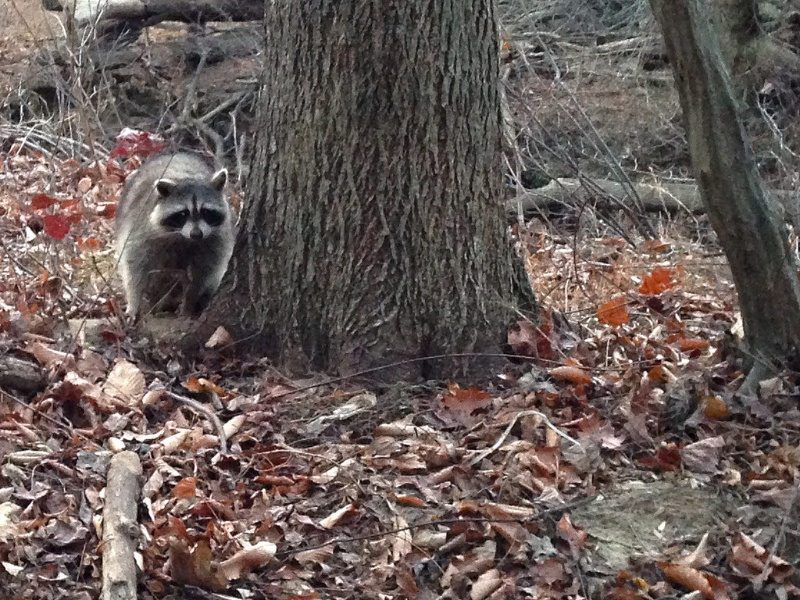raccoon: (112, 154, 238, 328)
